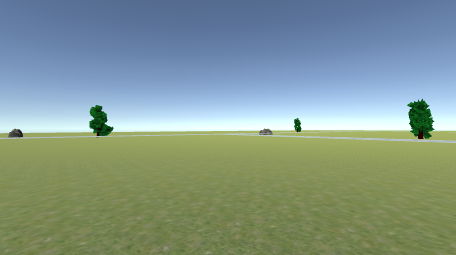rock: (7, 128, 24, 138), (259, 128, 273, 135)
tree: (408, 99, 434, 139), (89, 104, 114, 137), (294, 118, 302, 132)
